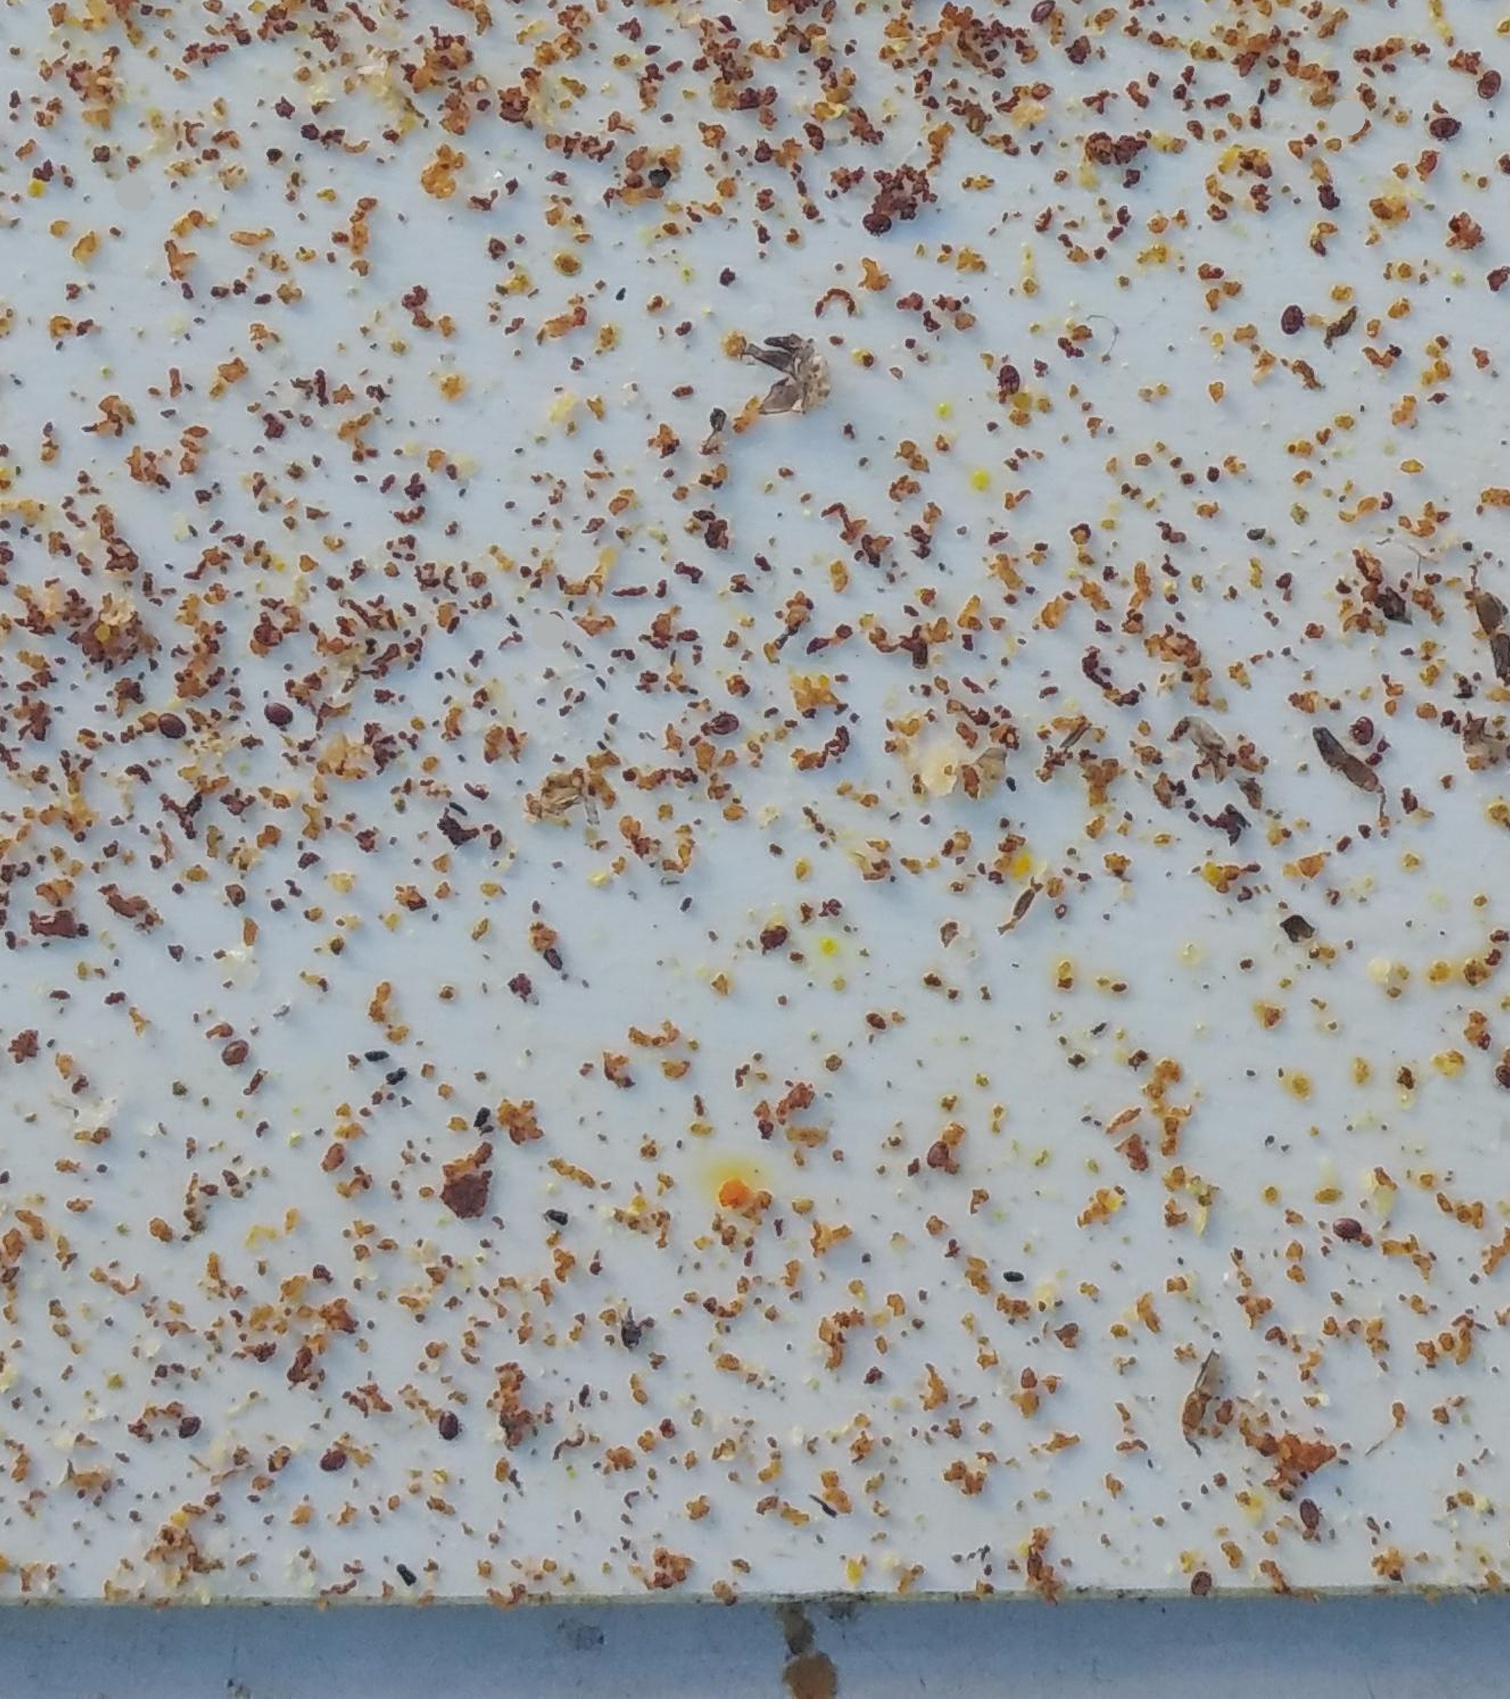Varroa: (262, 697, 299, 740), (856, 200, 893, 240), (152, 702, 188, 742), (1348, 715, 1385, 753), (1272, 294, 1307, 334), (1424, 114, 1459, 152), (213, 1032, 248, 1070), (701, 710, 739, 745), (318, 1432, 353, 1469), (1176, 1568, 1211, 1603), (306, 1451, 340, 1488), (990, 361, 1023, 396), (1329, 1217, 1363, 1250), (924, 1137, 955, 1173), (1476, 64, 1509, 98), (1291, 1502, 1323, 1536), (748, 917, 778, 951), (429, 1413, 461, 1445), (176, 1406, 207, 1437), (245, 625, 273, 654)
